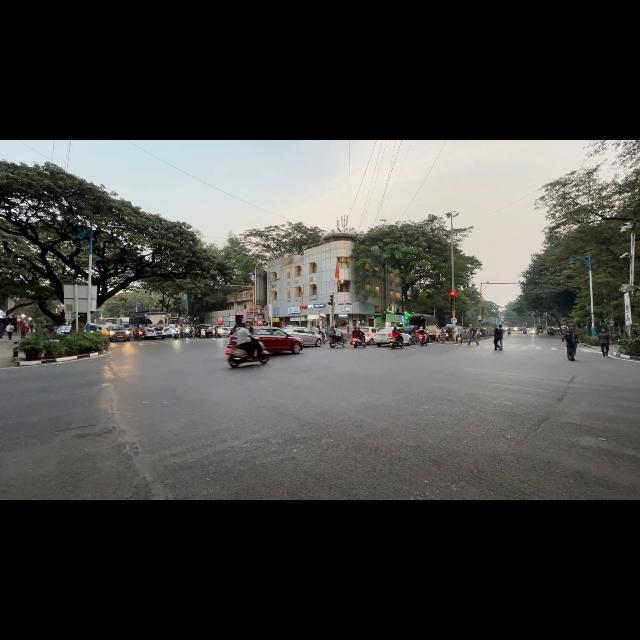bus: (129, 311, 170, 338), (170, 316, 179, 333), (116, 317, 128, 327), (97, 318, 116, 324)
car: (254, 327, 303, 353), (282, 327, 321, 346), (374, 327, 393, 346), (108, 326, 130, 341), (360, 327, 378, 345), (56, 325, 72, 337), (217, 327, 232, 336)
motorcycle: (225, 342, 268, 367), (329, 337, 346, 348), (389, 337, 403, 349), (351, 337, 365, 348), (419, 334, 427, 346), (134, 330, 143, 340), (198, 329, 206, 339), (173, 328, 180, 339), (321, 332, 326, 343), (508, 331, 510, 335)
